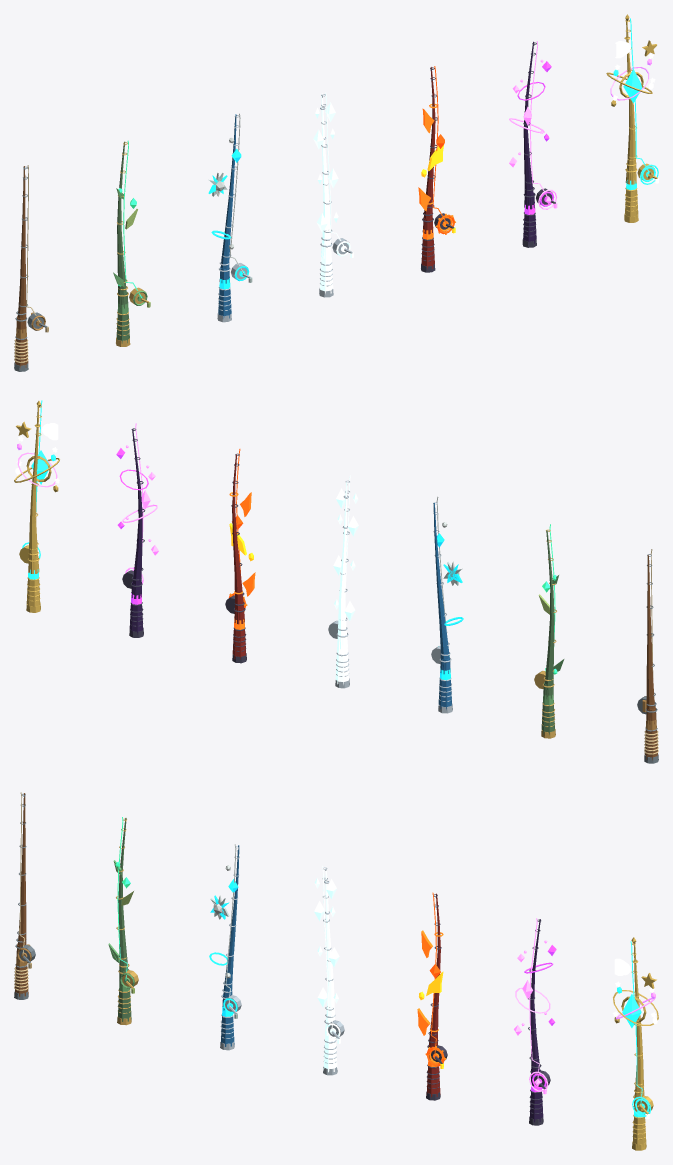
File: FantasyRods.fbx
3 renders of one model, top to bottom at view 1: azimuth 30°, elevation 25°; view 2: azimuth 150°, elevation 25°; view 3: azimuth 330°, elevation 25°, orthographic.
Visible parts, largest first — view 1: All14_Fantasy_Tier_7, All14_Fantasy_Tier_5, All14_Fantasy_Tier_4, All14_Fantasy_Tier_6, All14_Fantasy_Tier_3, All14_Fantasy_Tier_2, All14_Fantasy_Tier_1; view 2: All14_Fantasy_Tier_7, All14_Fantasy_Tier_5, All14_Fantasy_Tier_4, All14_Fantasy_Tier_6, All14_Fantasy_Tier_3, All14_Fantasy_Tier_2, All14_Fantasy_Tier_1; view 3: All14_Fantasy_Tier_7, All14_Fantasy_Tier_4, All14_Fantasy_Tier_5, All14_Fantasy_Tier_6, All14_Fantasy_Tier_3, All14_Fantasy_Tier_2, All14_Fantasy_Tier_1.
Part boxes in pixels (x1,y1,x2,y2): All14_Fantasy_Tier_7: (606, 14, 658, 222); All14_Fantasy_Tier_5: (418, 66, 455, 272); All14_Fantasy_Tier_4: (313, 92, 353, 297); All14_Fantasy_Tier_6: (509, 41, 557, 247); All14_Fantasy_Tier_3: (208, 113, 252, 322); All14_Fantasy_Tier_2: (113, 140, 150, 346); All14_Fantasy_Tier_1: (14, 165, 48, 371); All14_Fantasy_Tier_7: (14, 400, 59, 612); All14_Fantasy_Tier_5: (225, 449, 255, 663); All14_Fantasy_Tier_4: (328, 475, 358, 688); All14_Fantasy_Tier_6: (116, 423, 158, 637); All14_Fantasy_Tier_3: (431, 496, 463, 713); All14_Fantasy_Tier_2: (534, 524, 564, 738); All14_Fantasy_Tier_1: (637, 549, 658, 763); All14_Fantasy_Tier_7: (612, 937, 658, 1150); All14_Fantasy_Tier_4: (314, 865, 344, 1075); All14_Fantasy_Tier_5: (417, 892, 447, 1100); All14_Fantasy_Tier_6: (514, 918, 556, 1125); All14_Fantasy_Tier_3: (209, 844, 241, 1050); All14_Fantasy_Tier_2: (108, 817, 138, 1025); All14_Fantasy_Tier_1: (14, 792, 35, 999).
Bounding box in the file's own units: 784 × 244 × 54.05.
